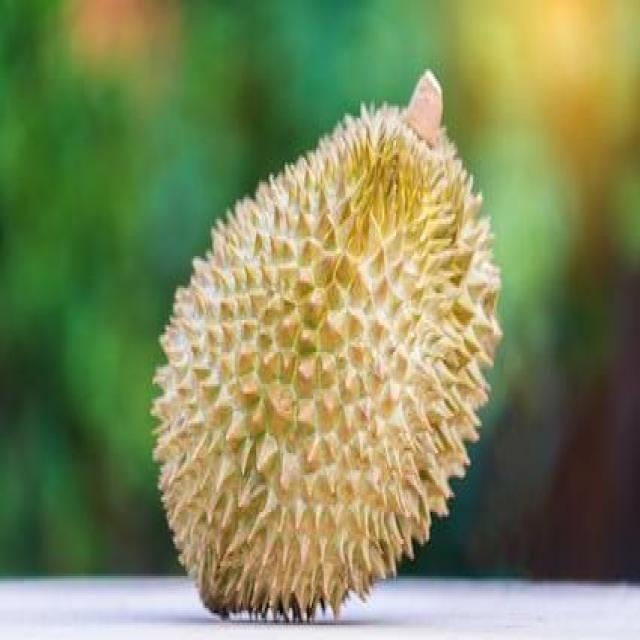mature: (154, 108, 500, 618)
